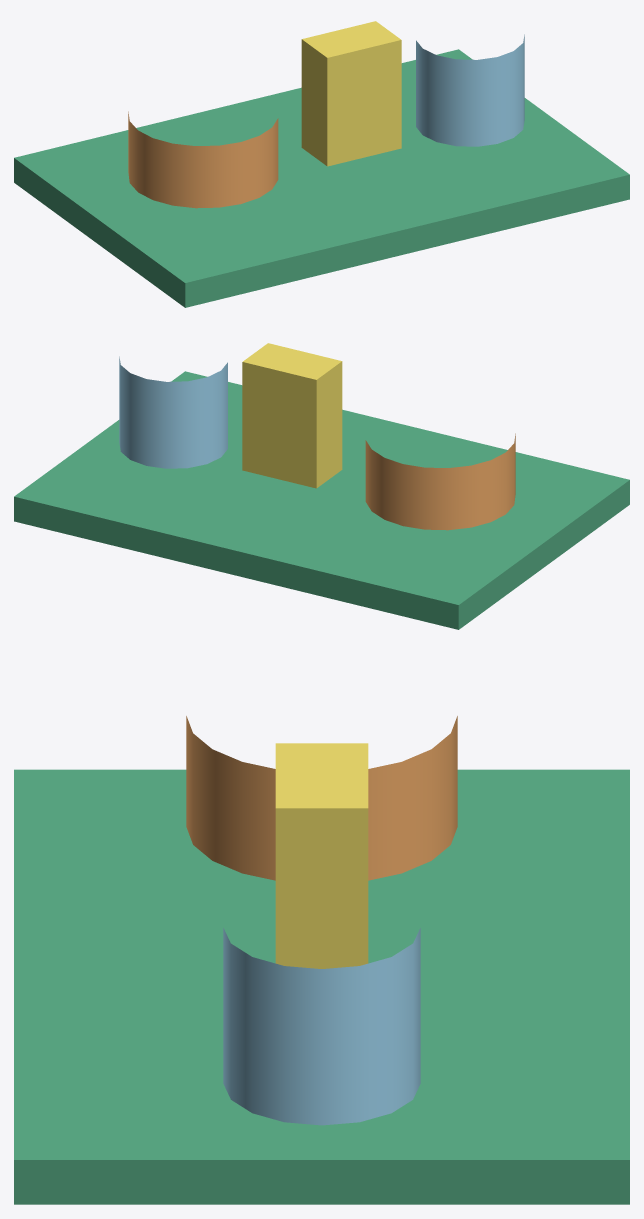
File: passive_filters_constant_k_m_derived.glb
3 renders of one model, top to bottom at view 1: azimuth 30°, elevation 25°; view 2: azimuth 150°, elevation 25°; view 3: azimuth 270°, elevation 25°, orthographic. The views are drawn at different scales.
Parts seen in each view (by area): view 1: FilterChassisPCB, SilverMicaShuntCapacitor, mDerivedResonantNotchCoil, ToroidalHighQInductor; view 2: FilterChassisPCB, SilverMicaShuntCapacitor, mDerivedResonantNotchCoil, ToroidalHighQInductor; view 3: FilterChassisPCB, mDerivedResonantNotchCoil, SilverMicaShuntCapacitor, ToroidalHighQInductor.
Part boxes in pixels (bbox=[...]): FilterChassisPCB: bbox=[14, 49, 629, 307]; SilverMicaShuntCapacitor: bbox=[301, 21, 401, 166]; mDerivedResonantNotchCoil: bbox=[416, 34, 524, 146]; ToroidalHighQInductor: bbox=[128, 111, 278, 208]; FilterChassisPCB: bbox=[14, 371, 629, 629]; SilverMicaShuntCapacitor: bbox=[242, 343, 342, 488]; mDerivedResonantNotchCoil: bbox=[119, 356, 227, 468]; ToroidalHighQInductor: bbox=[365, 433, 515, 530]; FilterChassisPCB: bbox=[14, 769, 629, 1204]; mDerivedResonantNotchCoil: bbox=[223, 928, 420, 1125]; SilverMicaShuntCapacitor: bbox=[275, 743, 368, 968]; ToroidalHighQInductor: bbox=[186, 716, 457, 880].
Bounding box in the file's own units: 1.5 × 0.465 × 1.
